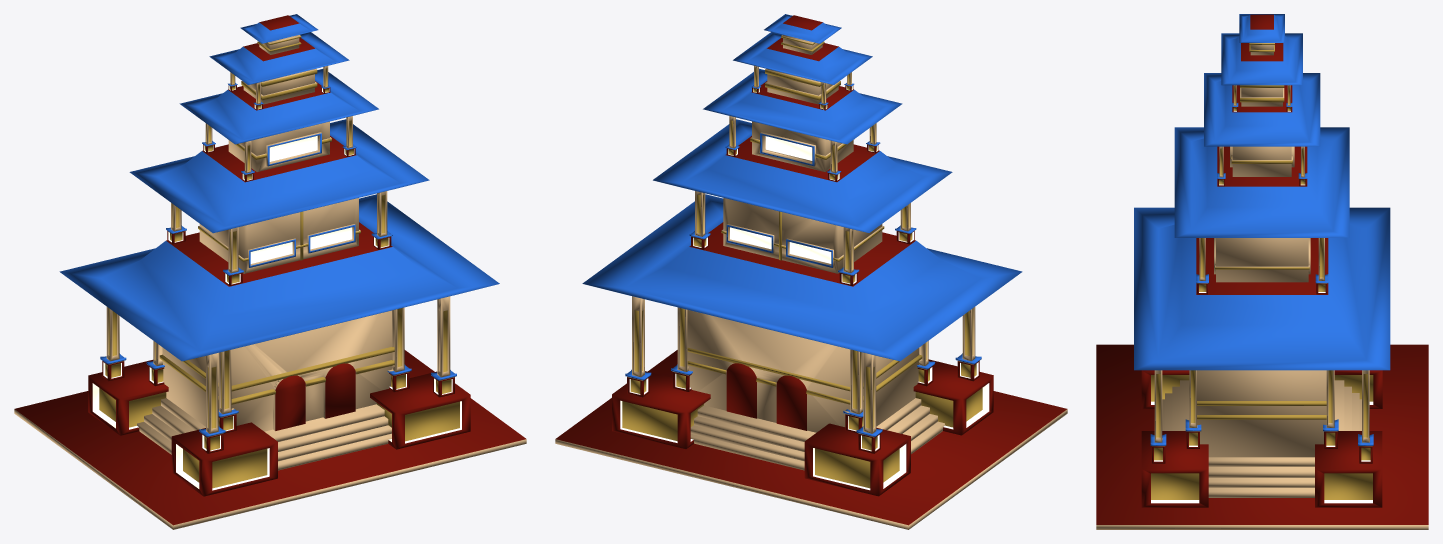
File: chinesebuilding.glb
3 renders of one model, left to right at view 1: azimuth 30°, elevation 25°; view 2: azimuth 150°, elevation 25°; view 3: azimuth 270°, elevation 25°, orthographic. The views are drawn at different scales.
Visible parts, largest first — view 1: Chinese Large Building; view 2: Chinese Large Building; view 3: Chinese Large Building.
Part boxes in pixels (left/top/right/bottom): Chinese Large Building: left=14, top=14, right=526, bottom=529; Chinese Large Building: left=555, top=14, right=1067, bottom=529; Chinese Large Building: left=1096, top=14, right=1428, bottom=529.
Size of the model in its own units: 92.11 by 101 by 71.78.
